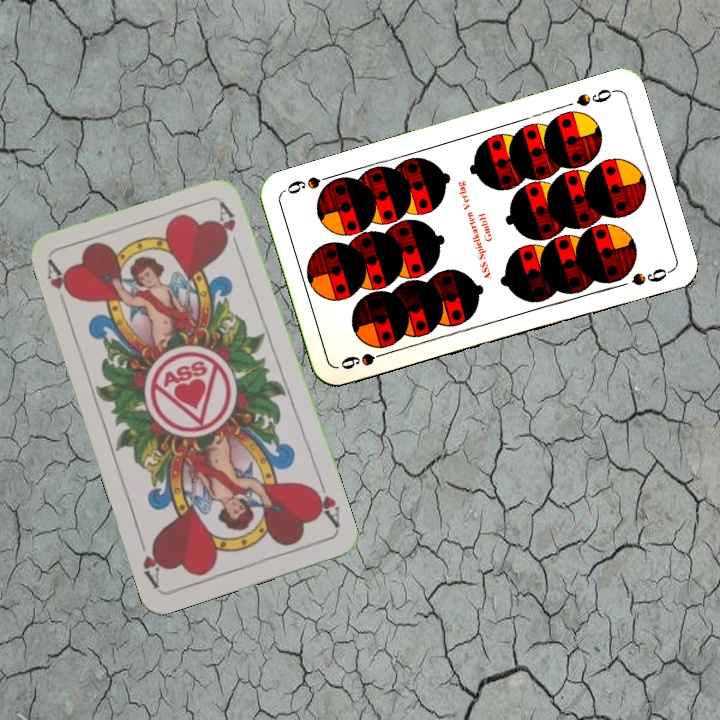HA: (306, 474, 343, 531), (42, 257, 78, 314)
S9: (336, 346, 395, 372), (572, 85, 619, 109)
